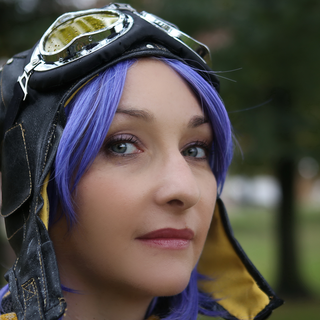eye: (93, 125, 152, 167), (177, 130, 217, 172)
